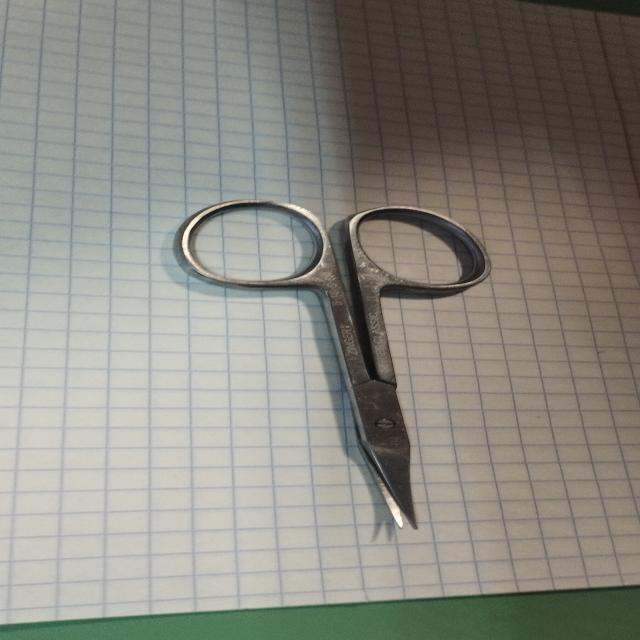tesoura: (165, 190, 504, 534)
